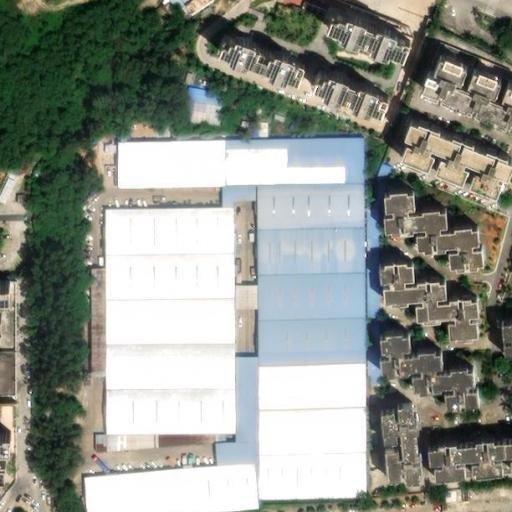building: (399, 113, 512, 200), (85, 466, 262, 512), (99, 388, 245, 441), (102, 344, 240, 400), (106, 207, 251, 260), (103, 299, 251, 348), (261, 316, 373, 375), (105, 256, 244, 302), (262, 457, 375, 512), (427, 56, 512, 129), (236, 144, 368, 189), (259, 216, 364, 272), (263, 374, 374, 419), (260, 270, 365, 317), (331, 17, 421, 69), (312, 70, 397, 124), (266, 417, 374, 458), (220, 188, 369, 217), (226, 38, 310, 88), (391, 189, 458, 250), (389, 267, 457, 325), (383, 406, 425, 493), (433, 440, 512, 485), (239, 355, 270, 469), (174, 146, 236, 190), (118, 146, 175, 191), (180, 82, 222, 125), (104, 430, 164, 458), (455, 295, 488, 345), (456, 224, 493, 268), (382, 329, 416, 376), (414, 347, 447, 393), (446, 366, 479, 408), (0, 283, 26, 335), (0, 391, 13, 456), (215, 441, 244, 466), (497, 329, 512, 369)
